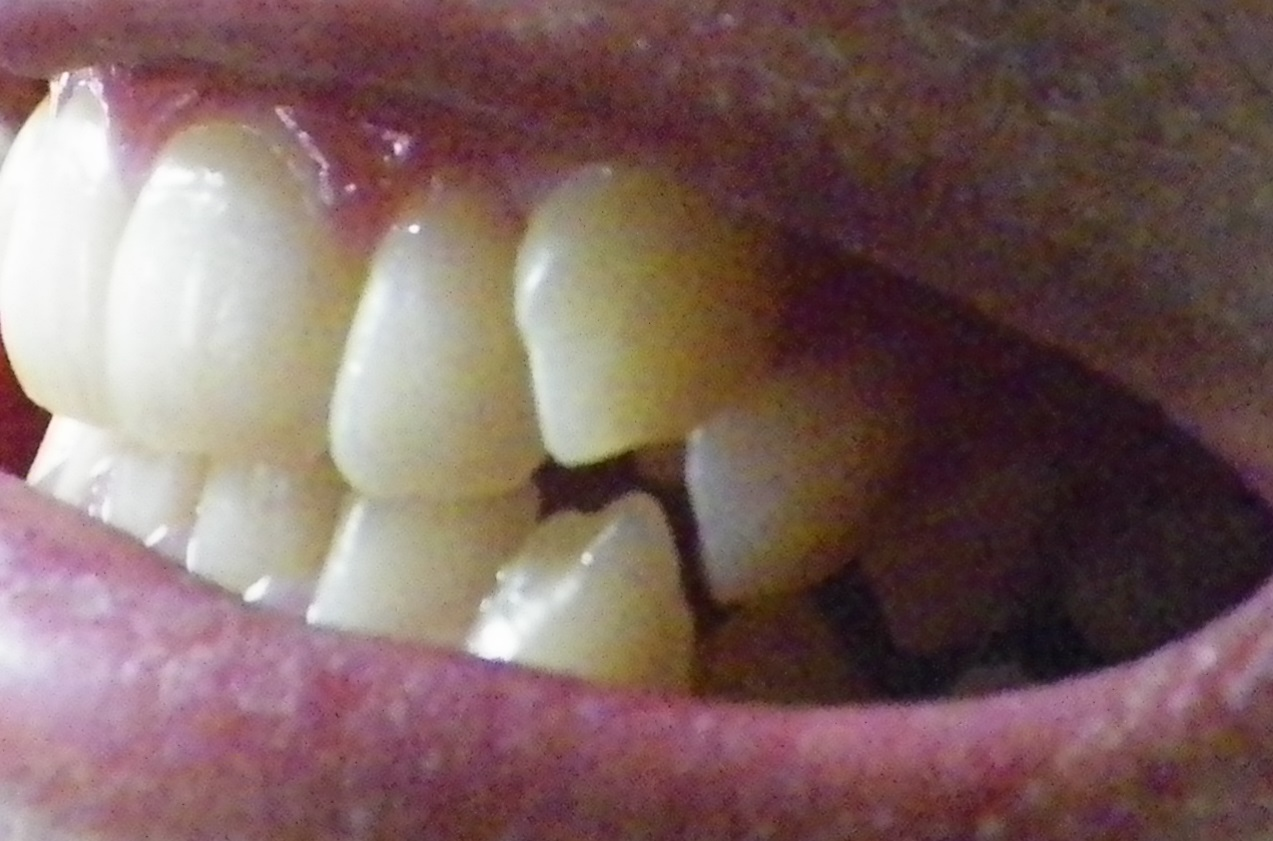boca: (3, 69, 1195, 672)
